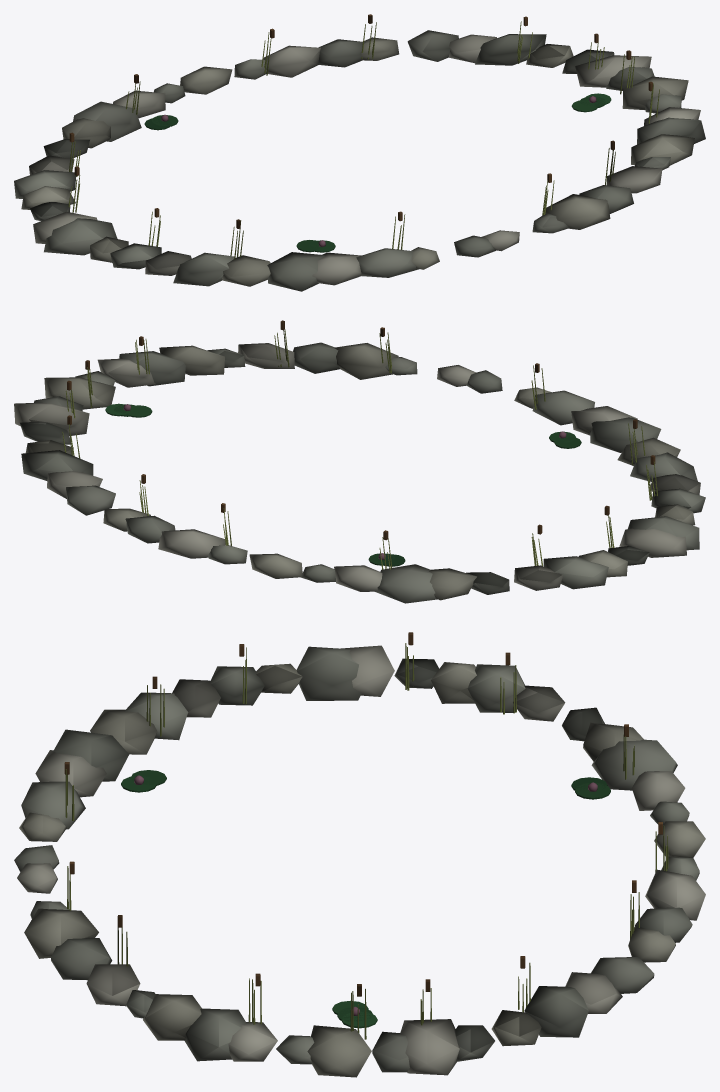
The model's file is pond.glb.
The picture shows the model from 3 angles, top to bottom: view 1: azimuth 30°, elevation 25°; view 2: azimuth 150°, elevation 25°; view 3: azimuth 270°, elevation 25°; orthographic projection. The views are drawn at different scales.
Parts seen in each view (by area): view 1: pond; view 2: pond; view 3: pond.
Part boxes in pixels (left/top/right/bottom): pond: left=14, top=14, right=705, bottom=291; pond: left=14, top=320, right=705, bottom=603; pond: left=14, top=632, right=705, bottom=1077.
Bounding box in the file's own units: 25.06 × 2.13 × 17.18.
